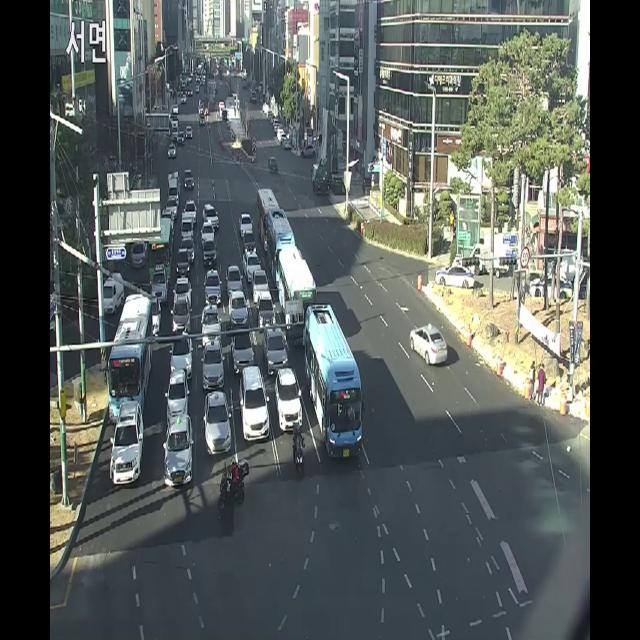bus: (215, 450, 263, 549), (291, 411, 305, 488)
car: (308, 302, 370, 462), (109, 291, 156, 417), (280, 249, 325, 335), (268, 195, 302, 280), (152, 210, 174, 290)
motorcycle: (112, 395, 143, 514), (237, 366, 272, 462), (411, 316, 456, 376), (202, 385, 236, 461), (167, 413, 196, 495), (252, 174, 282, 247), (279, 366, 305, 434), (90, 268, 132, 308), (136, 286, 165, 336), (164, 370, 191, 422), (235, 326, 259, 382), (265, 320, 287, 380), (195, 302, 218, 358), (203, 336, 220, 406), (171, 331, 193, 385), (229, 285, 249, 339), (202, 276, 230, 308), (227, 258, 247, 302), (257, 284, 274, 332), (173, 298, 192, 340), (176, 244, 192, 283), (233, 208, 256, 235), (153, 271, 171, 305), (242, 247, 259, 281), (200, 237, 218, 269), (172, 280, 190, 311), (176, 236, 199, 260), (202, 203, 223, 229), (184, 197, 201, 224), (163, 200, 178, 228), (264, 153, 281, 177), (162, 186, 182, 206), (238, 232, 256, 254), (182, 167, 196, 190), (203, 222, 218, 241), (183, 123, 197, 142), (165, 143, 180, 159), (169, 118, 181, 137), (175, 128, 185, 150), (196, 112, 208, 130)
truck: (178, 209, 196, 246), (165, 170, 186, 193)
